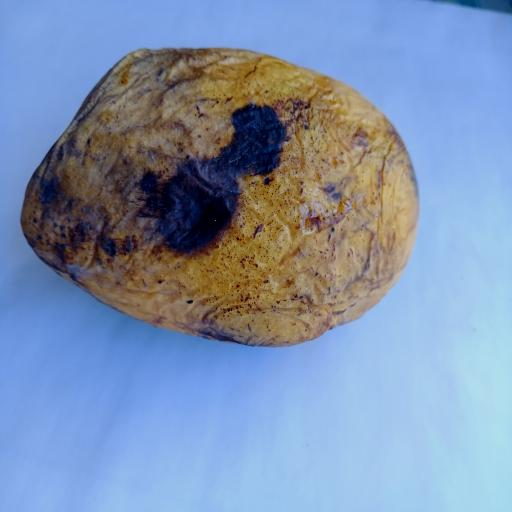mango-overripe: (0, 27, 440, 363)
